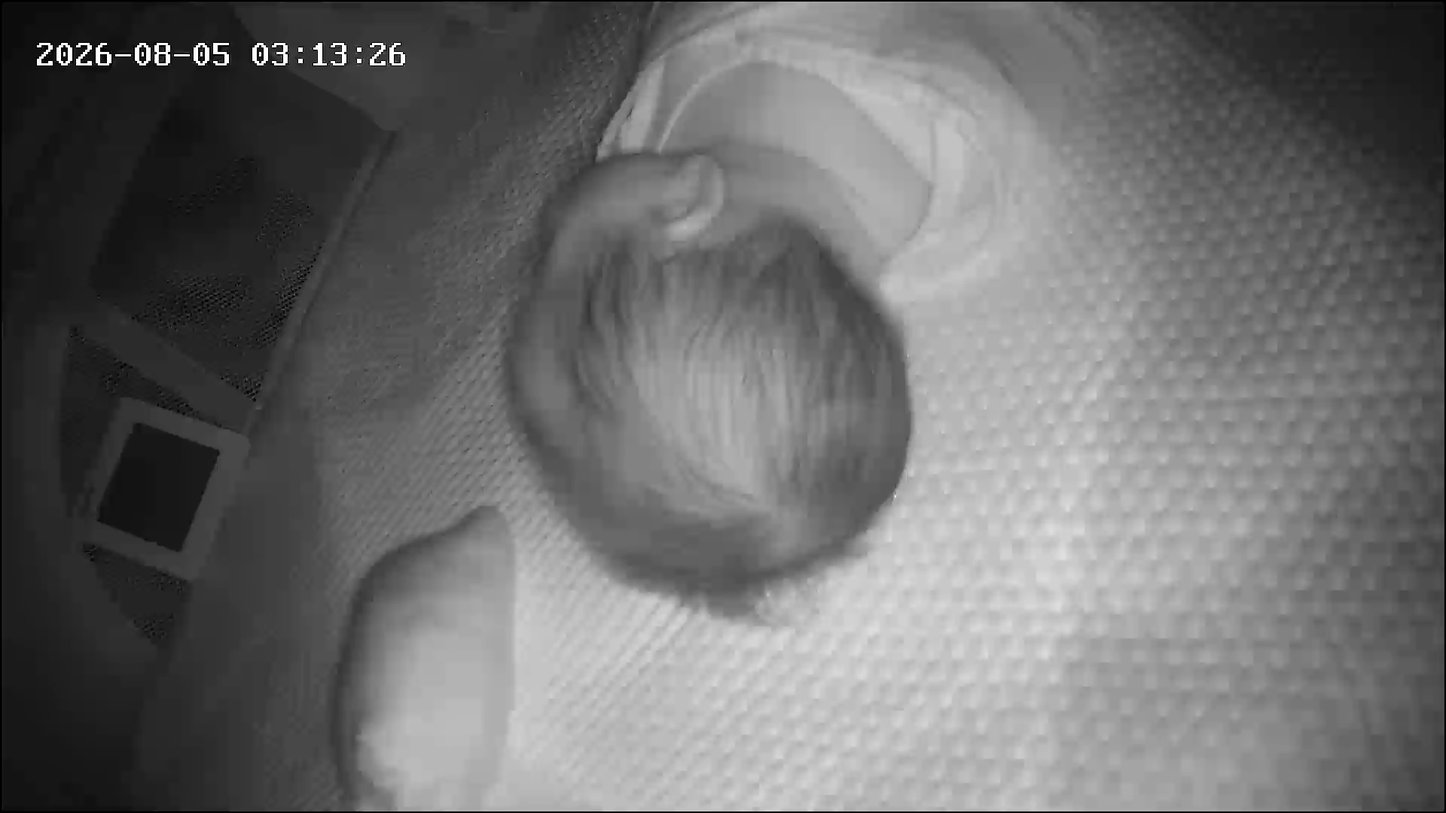baby: (30, 0, 1023, 624), (312, 0, 1091, 628)
baby_face: (495, 96, 941, 603)
